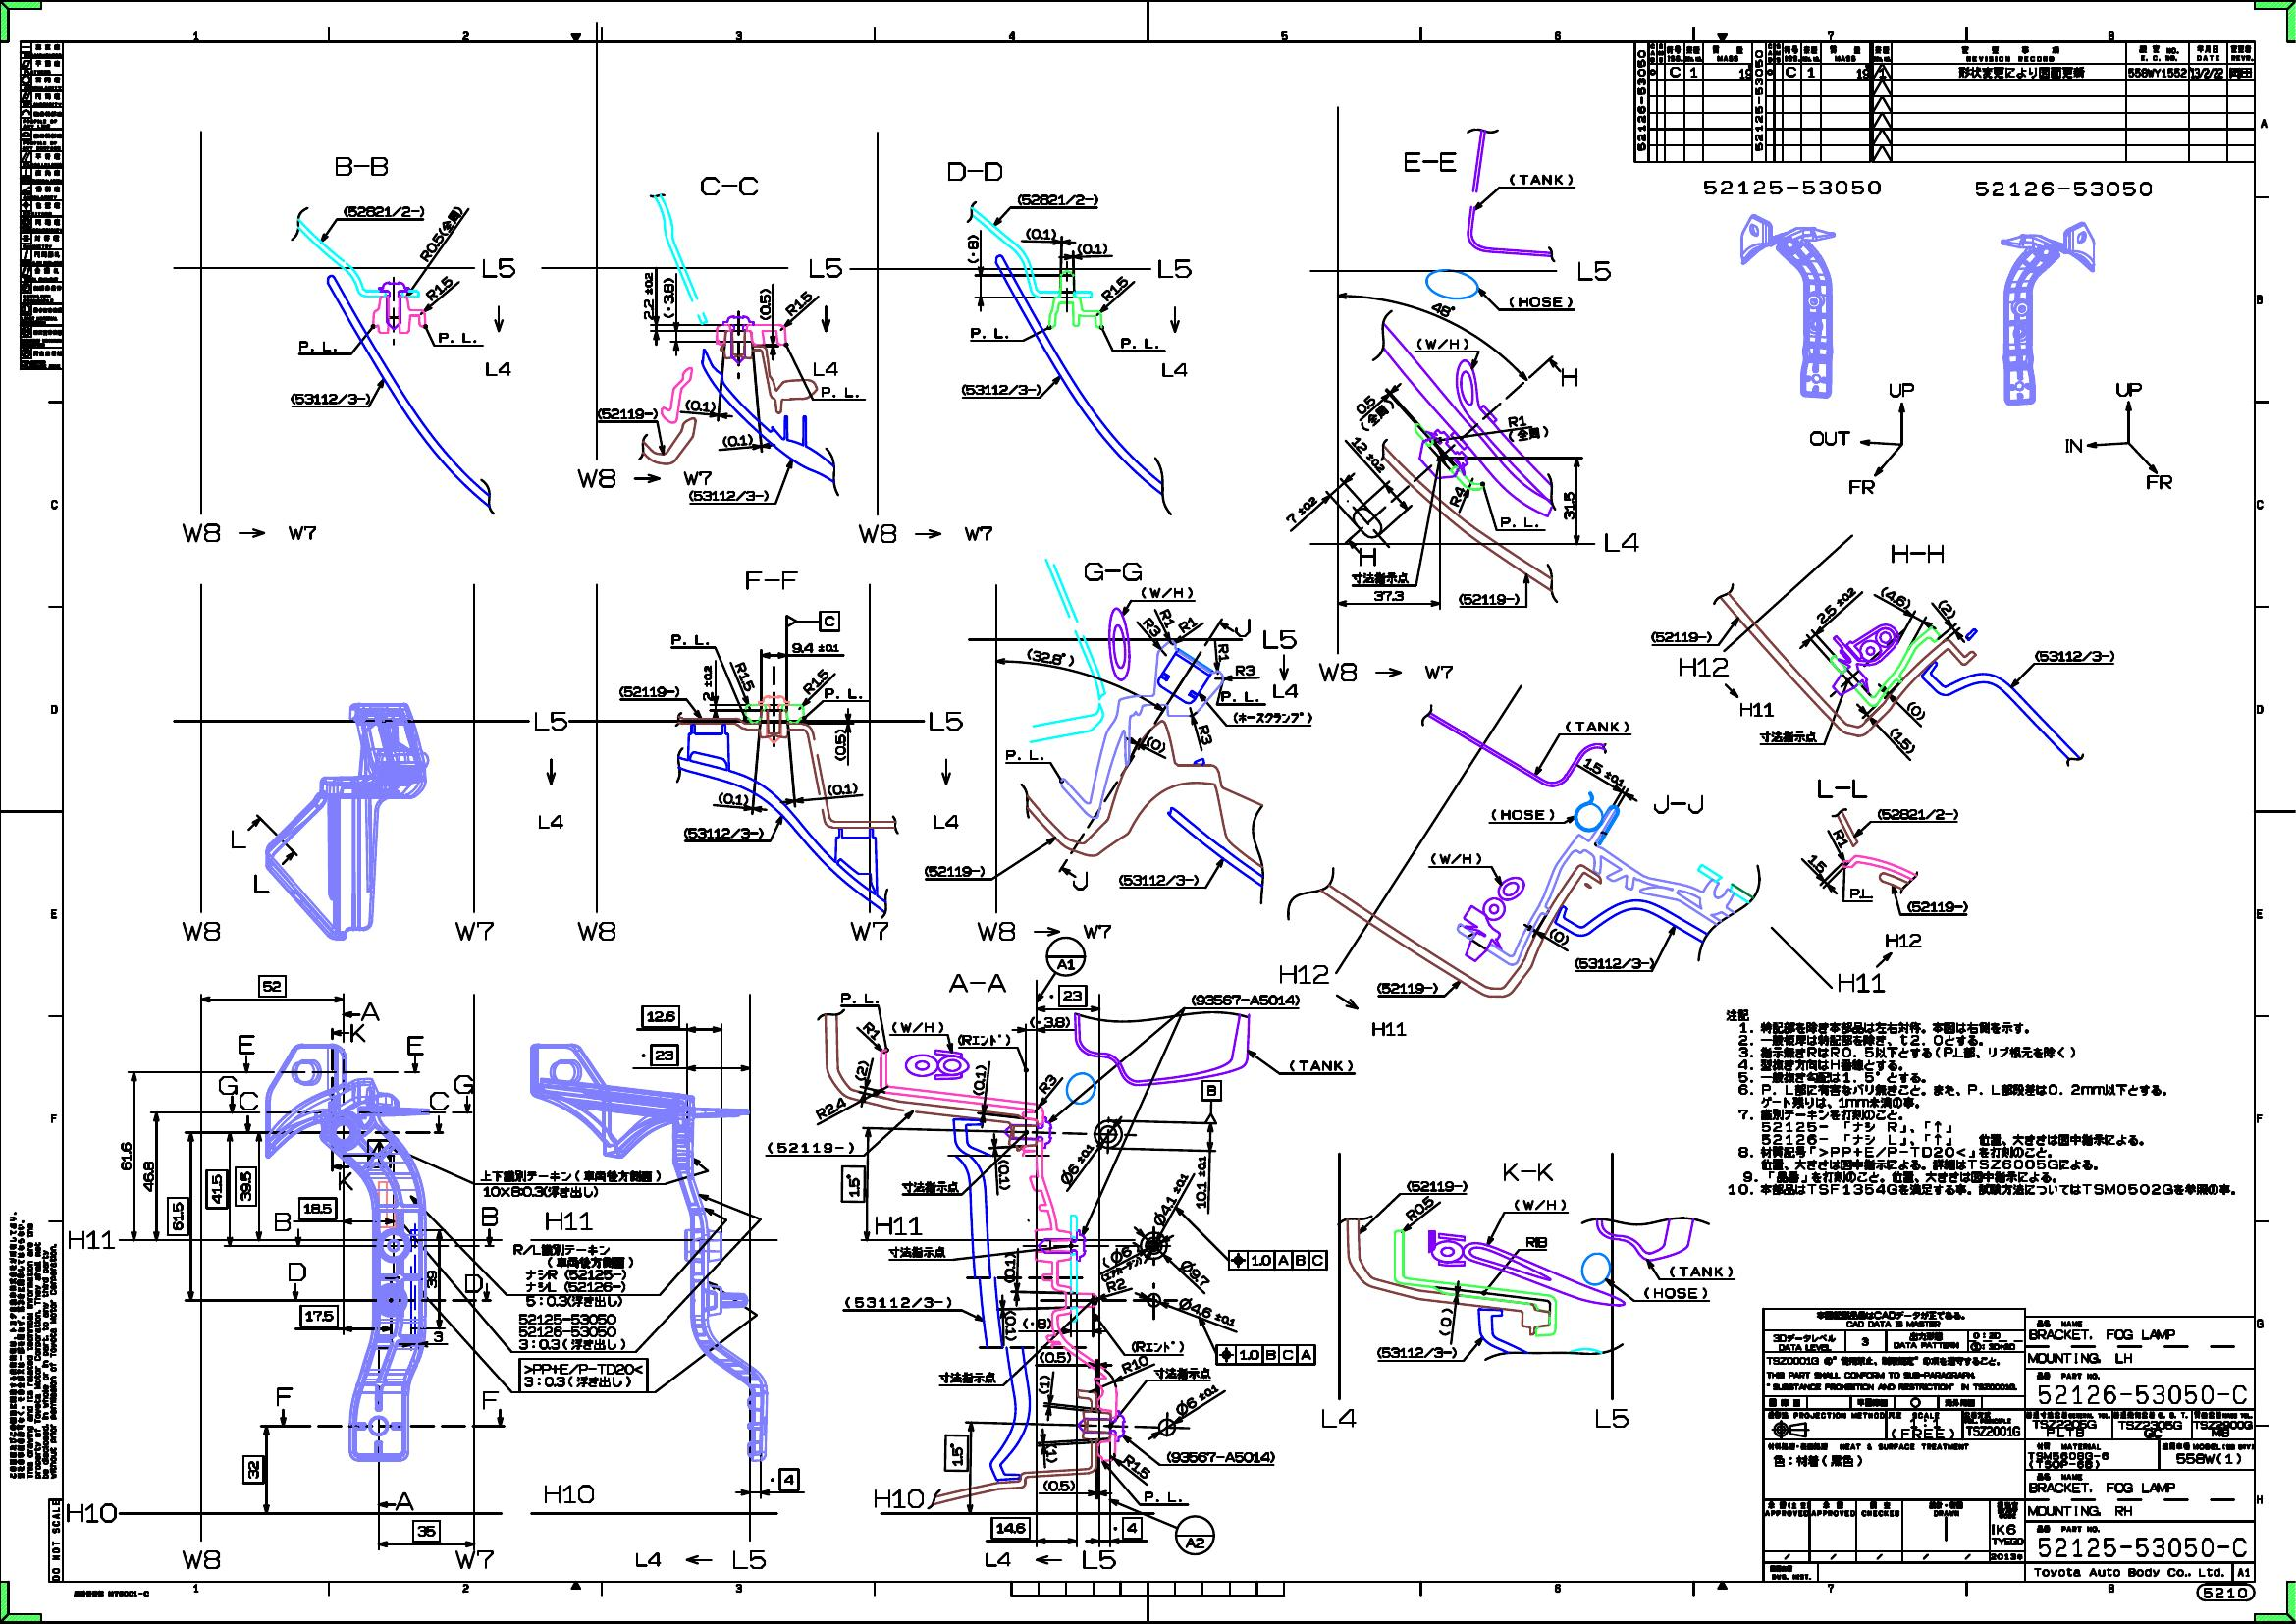title_block: (1762, 1309, 2254, 1584), (1635, 40, 2256, 162)
